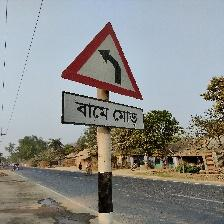Left-Turn: (60, 21, 145, 130)
